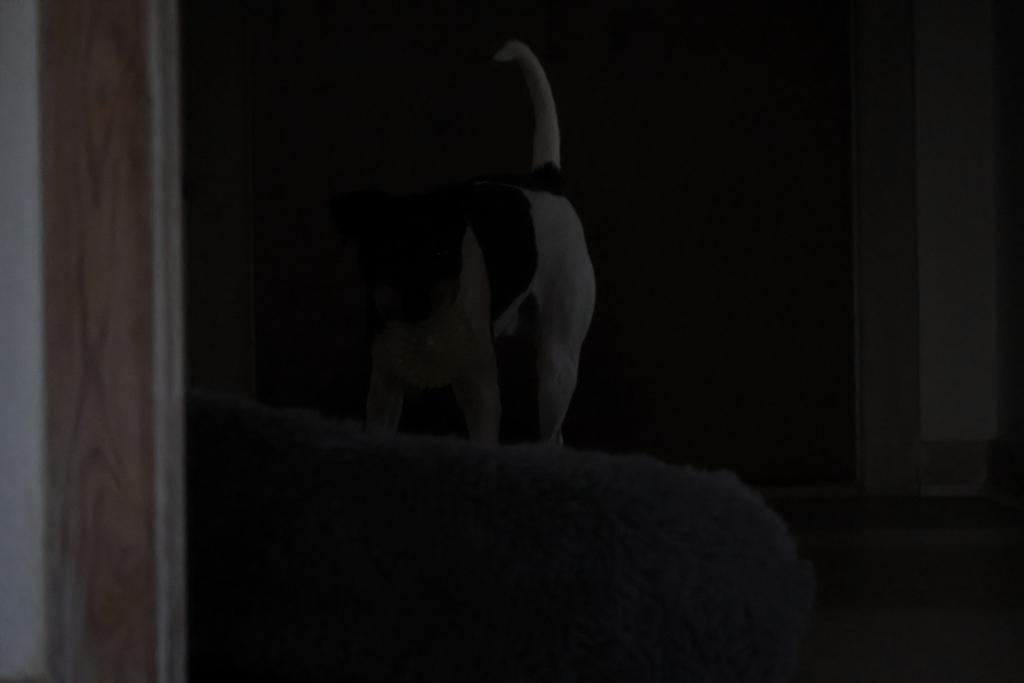Dog: (332, 28, 604, 462)
